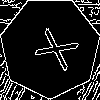X: (25, 22, 79, 73)
